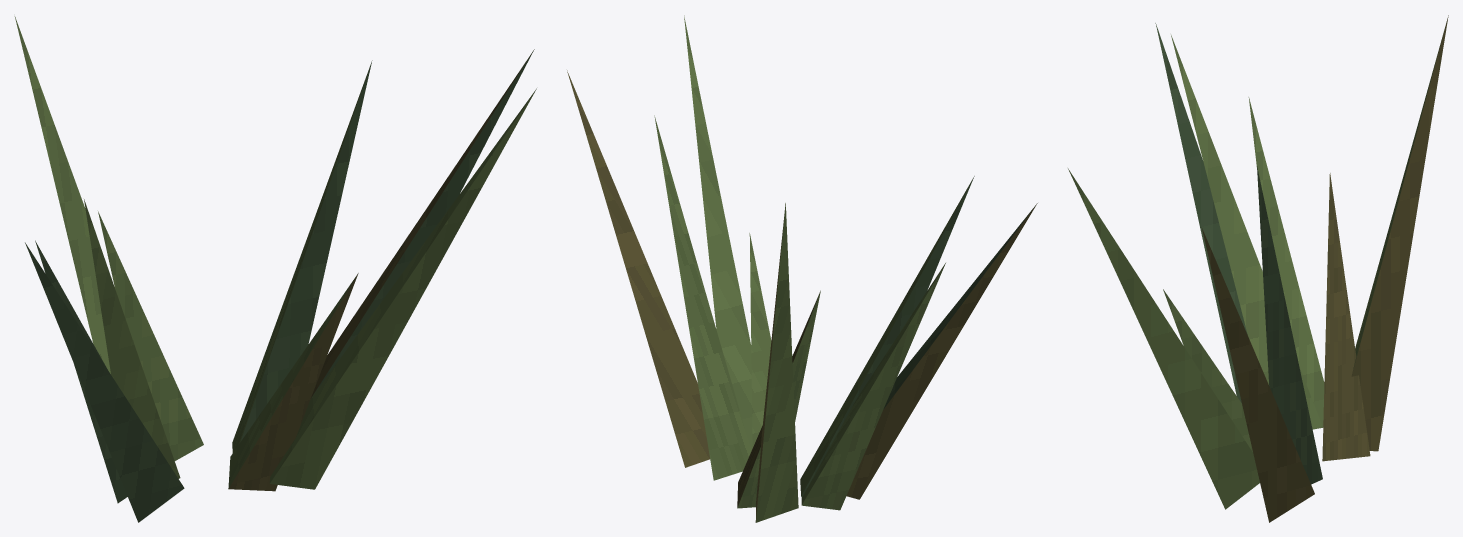
Rendered from grass_tuft.glb.
3 views of the same model, side by side, from view 1: azimuth 30°, elevation 25°; view 2: azimuth 150°, elevation 25°; view 3: azimuth 270°, elevation 25° (orthographic). The views are drawn at different scales.
Visible parts, largest first — view 1: grass_tuft; view 2: grass_tuft; view 3: grass_tuft.
Boxes of the visible parts, x1,y1,x2,y2 form: grass_tuft: (14, 16, 536, 522); grass_tuft: (567, 15, 1037, 522); grass_tuft: (1068, 15, 1448, 522).
Size of the model in its own units: 0.6408 by 0.4989 by 0.4178.
Materials: 1 (1 with a texture image).
